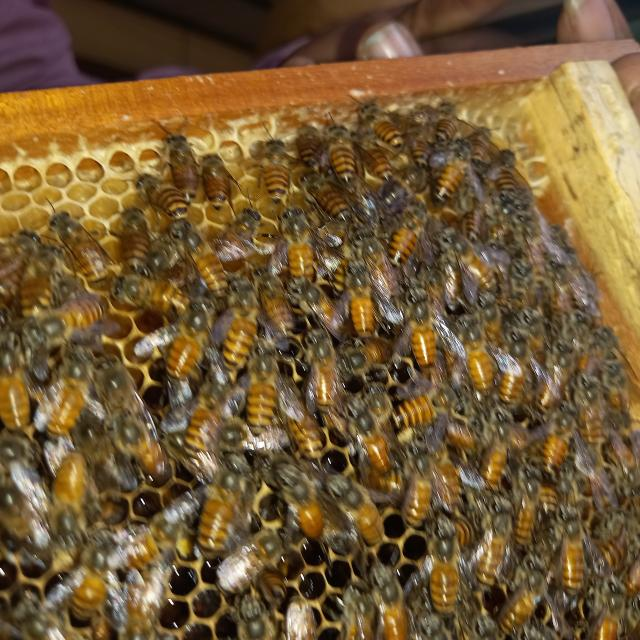honeybee: (212, 526, 287, 594), (173, 218, 230, 300), (327, 470, 388, 545), (51, 207, 108, 283), (498, 554, 551, 635), (49, 448, 89, 549), (275, 464, 328, 540), (182, 377, 231, 457), (109, 412, 168, 478), (196, 472, 242, 554), (474, 498, 516, 587), (49, 353, 91, 438), (256, 262, 298, 347), (39, 291, 105, 345), (589, 511, 640, 579), (110, 271, 187, 314), (409, 285, 445, 376), (0, 228, 42, 304), (135, 164, 191, 220), (286, 387, 328, 461), (558, 506, 588, 609), (458, 314, 496, 395), (0, 331, 32, 427), (389, 381, 454, 428), (587, 571, 631, 640), (353, 403, 392, 478), (227, 287, 261, 373), (303, 329, 338, 412), (166, 310, 208, 379), (0, 434, 42, 502), (372, 561, 408, 640), (211, 206, 260, 264), (71, 544, 106, 624), (512, 203, 548, 280), (432, 523, 462, 615), (248, 353, 280, 439), (291, 275, 339, 332), (92, 354, 138, 412), (537, 336, 573, 410), (368, 232, 398, 318), (360, 95, 408, 148), (278, 208, 314, 277), (260, 132, 296, 200), (165, 126, 197, 200), (407, 442, 434, 528), (340, 574, 375, 640), (484, 405, 512, 487), (460, 233, 500, 290), (303, 177, 349, 226), (0, 482, 37, 542), (572, 374, 604, 442), (200, 145, 235, 207), (348, 264, 377, 336), (384, 215, 426, 264), (345, 333, 398, 371), (539, 413, 572, 474), (121, 202, 148, 275), (430, 154, 468, 205), (544, 254, 576, 314), (442, 242, 467, 314), (501, 254, 532, 311), (463, 174, 491, 237), (500, 330, 524, 402), (607, 359, 634, 422), (514, 477, 539, 545), (493, 152, 522, 204), (329, 121, 354, 181), (286, 589, 314, 640), (365, 137, 394, 184), (565, 308, 592, 357), (298, 126, 329, 167), (438, 105, 473, 140), (468, 120, 496, 162), (259, 565, 288, 605), (410, 134, 429, 172)
